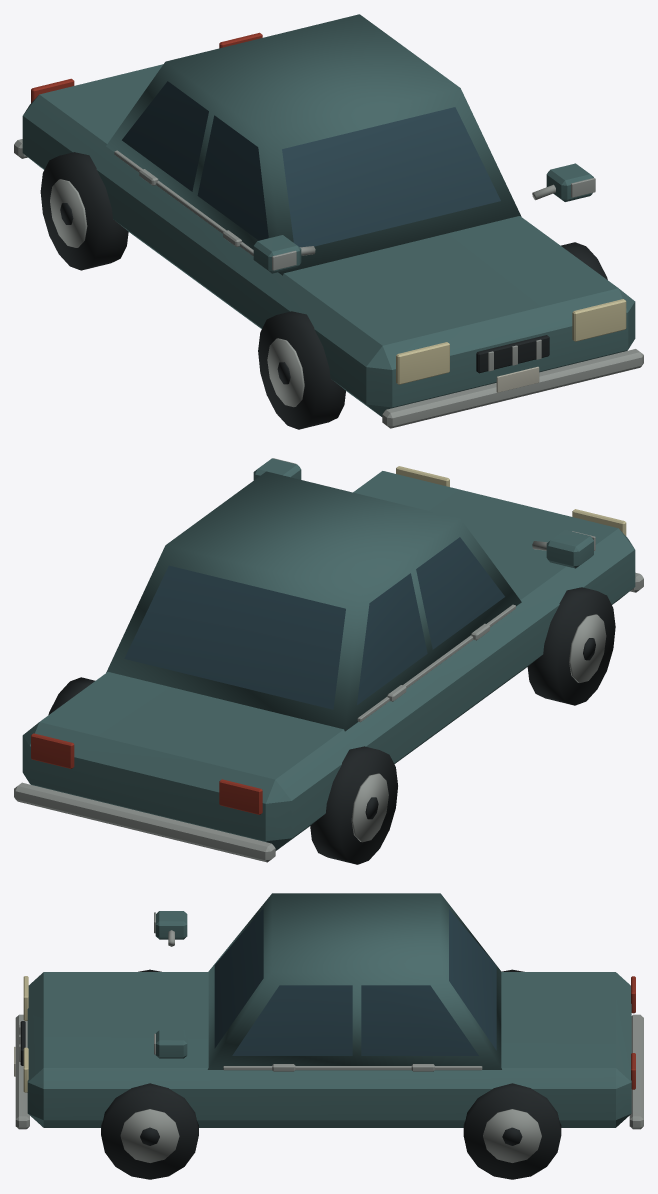
The model's file is car-01-sedan.glb.
3 views of the same model, one above another, from view 1: azimuth 30°, elevation 25°; view 2: azimuth 150°, elevation 25°; view 3: azimuth 270°, elevation 25° (orthographic). The views are drawn at different scales.
Parts seen in each view (by area): view 1: car-01-sedan_geometry; view 2: car-01-sedan_geometry; view 3: car-01-sedan_geometry.
Part boxes in pixels (x1,y1,x2,y2): car-01-sedan_geometry: (14,14,643,429); car-01-sedan_geometry: (14,458,643,864); car-01-sedan_geometry: (14,893,643,1179).
Size of the model in its own units: 2.18 by 1.43 by 4.38.
